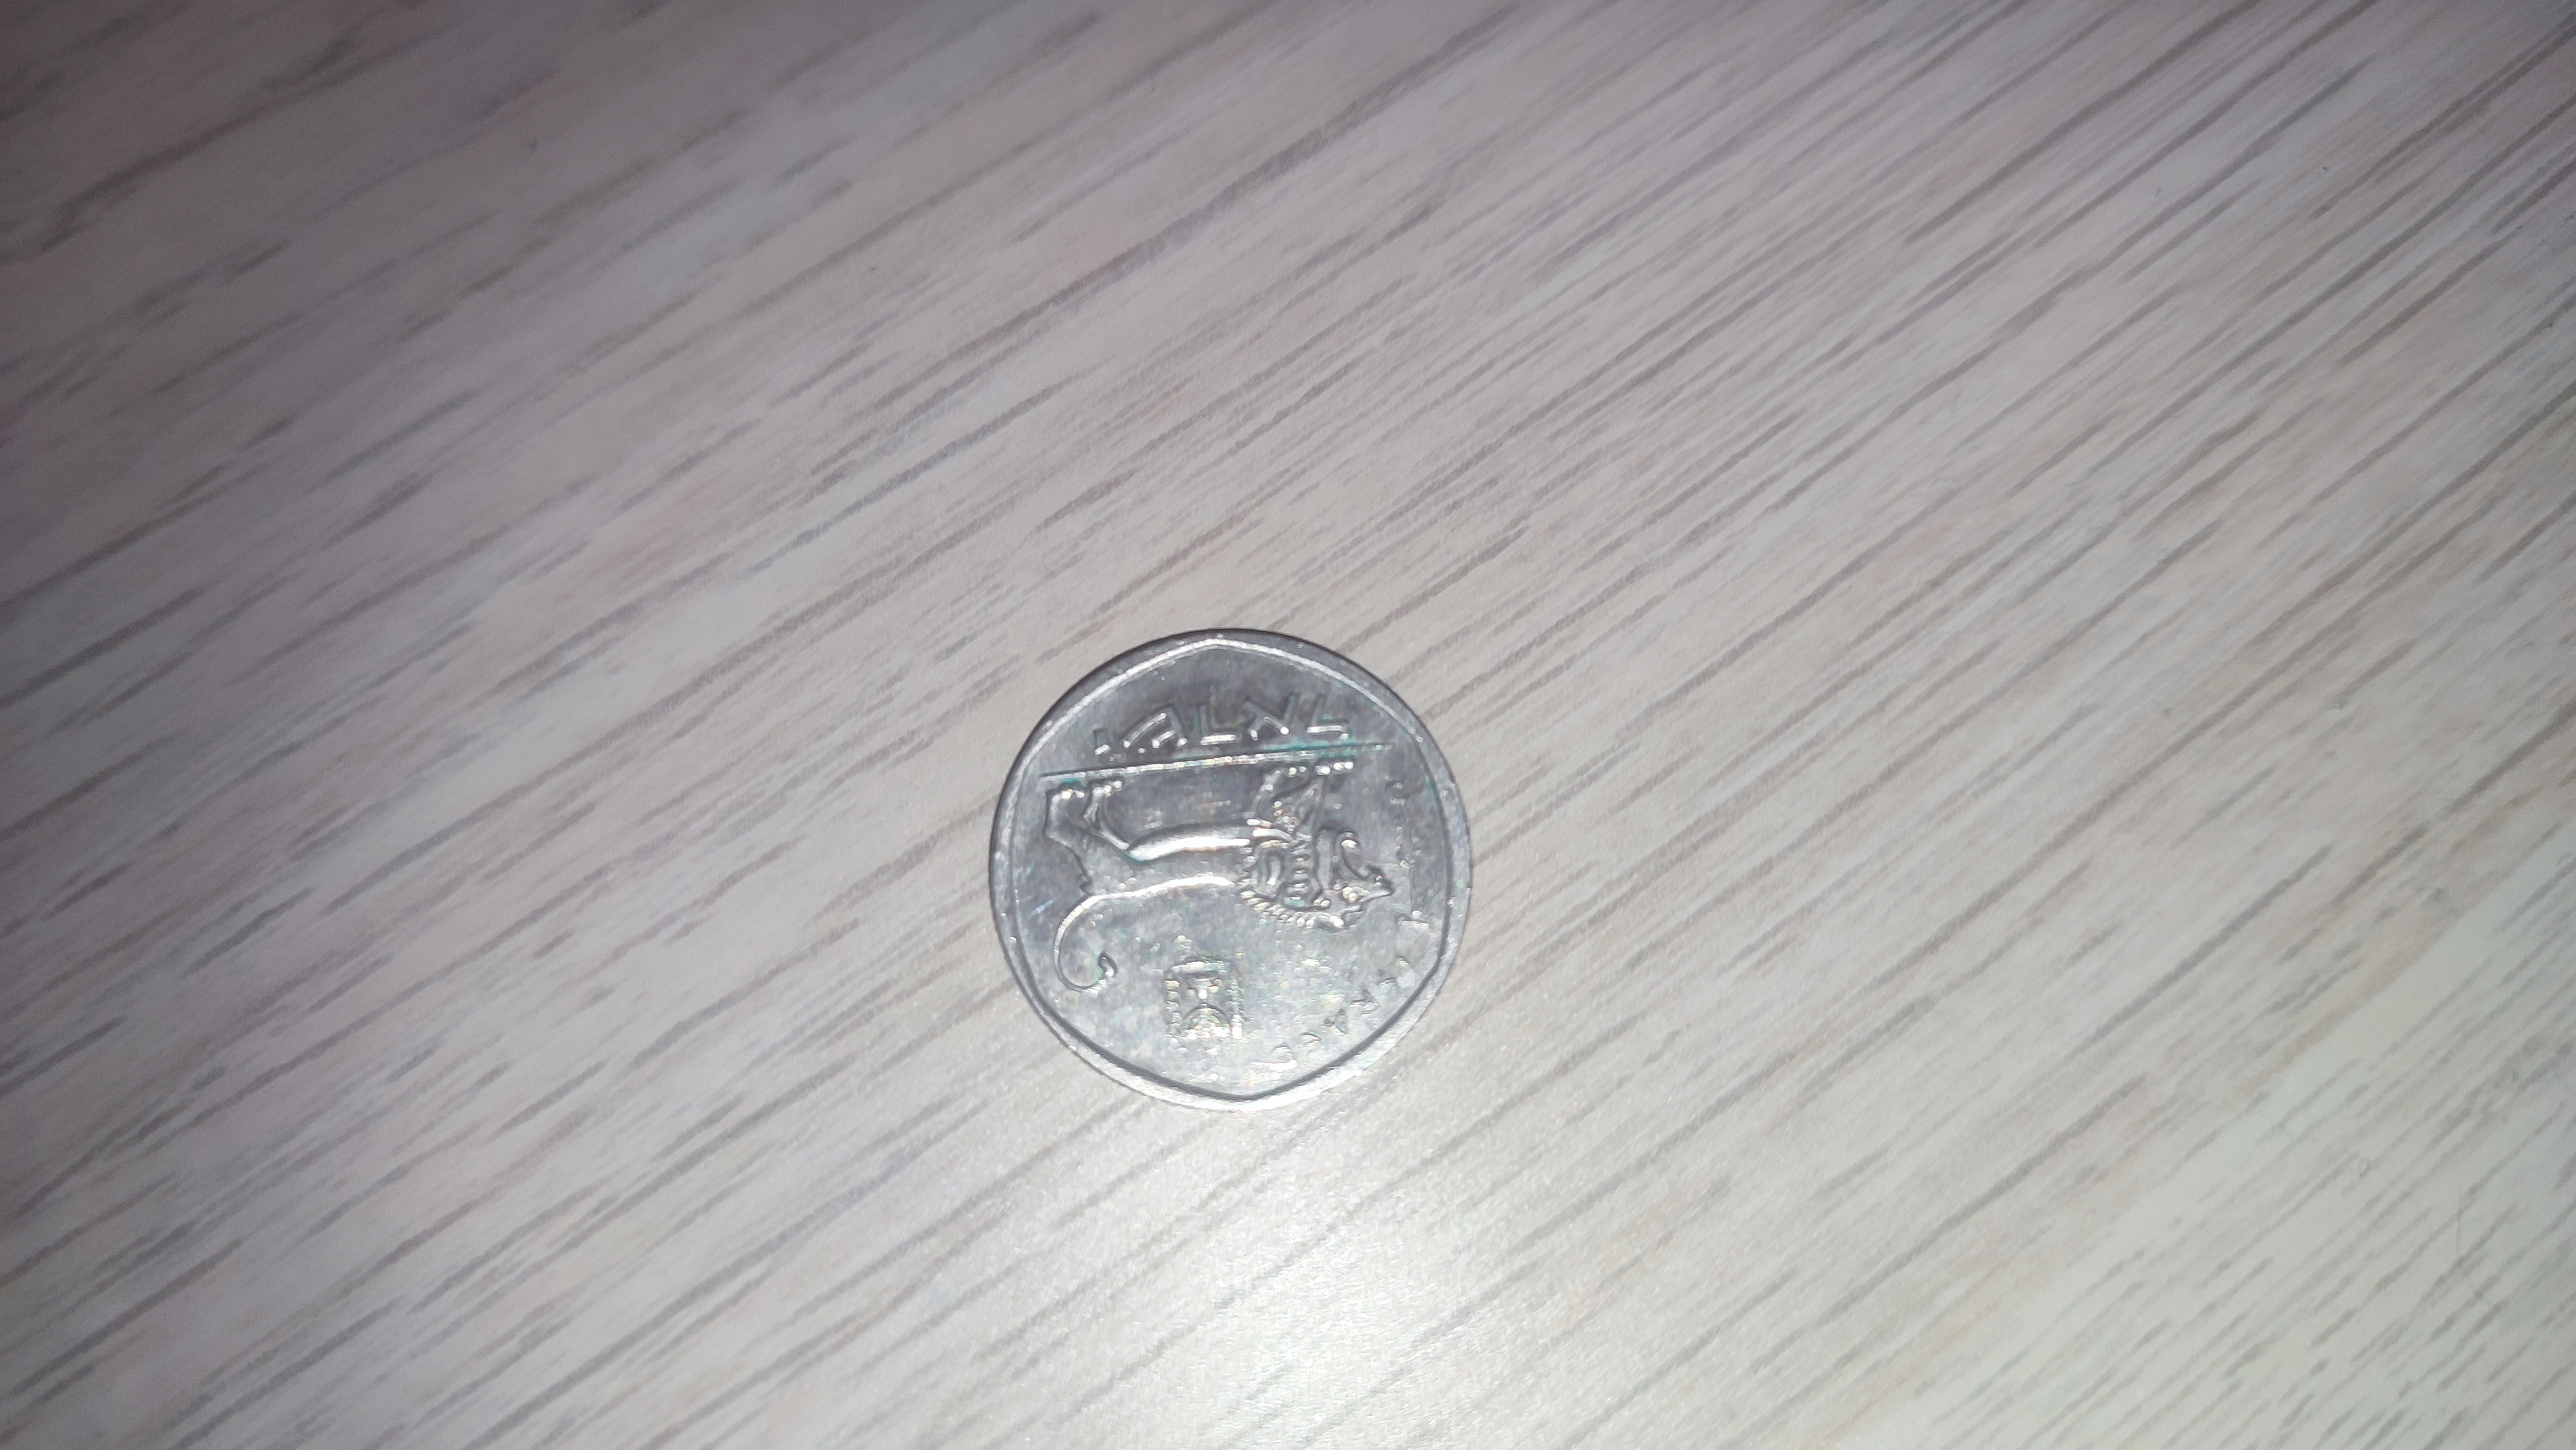1/2 old sheqel: (977, 621, 1490, 1123)
